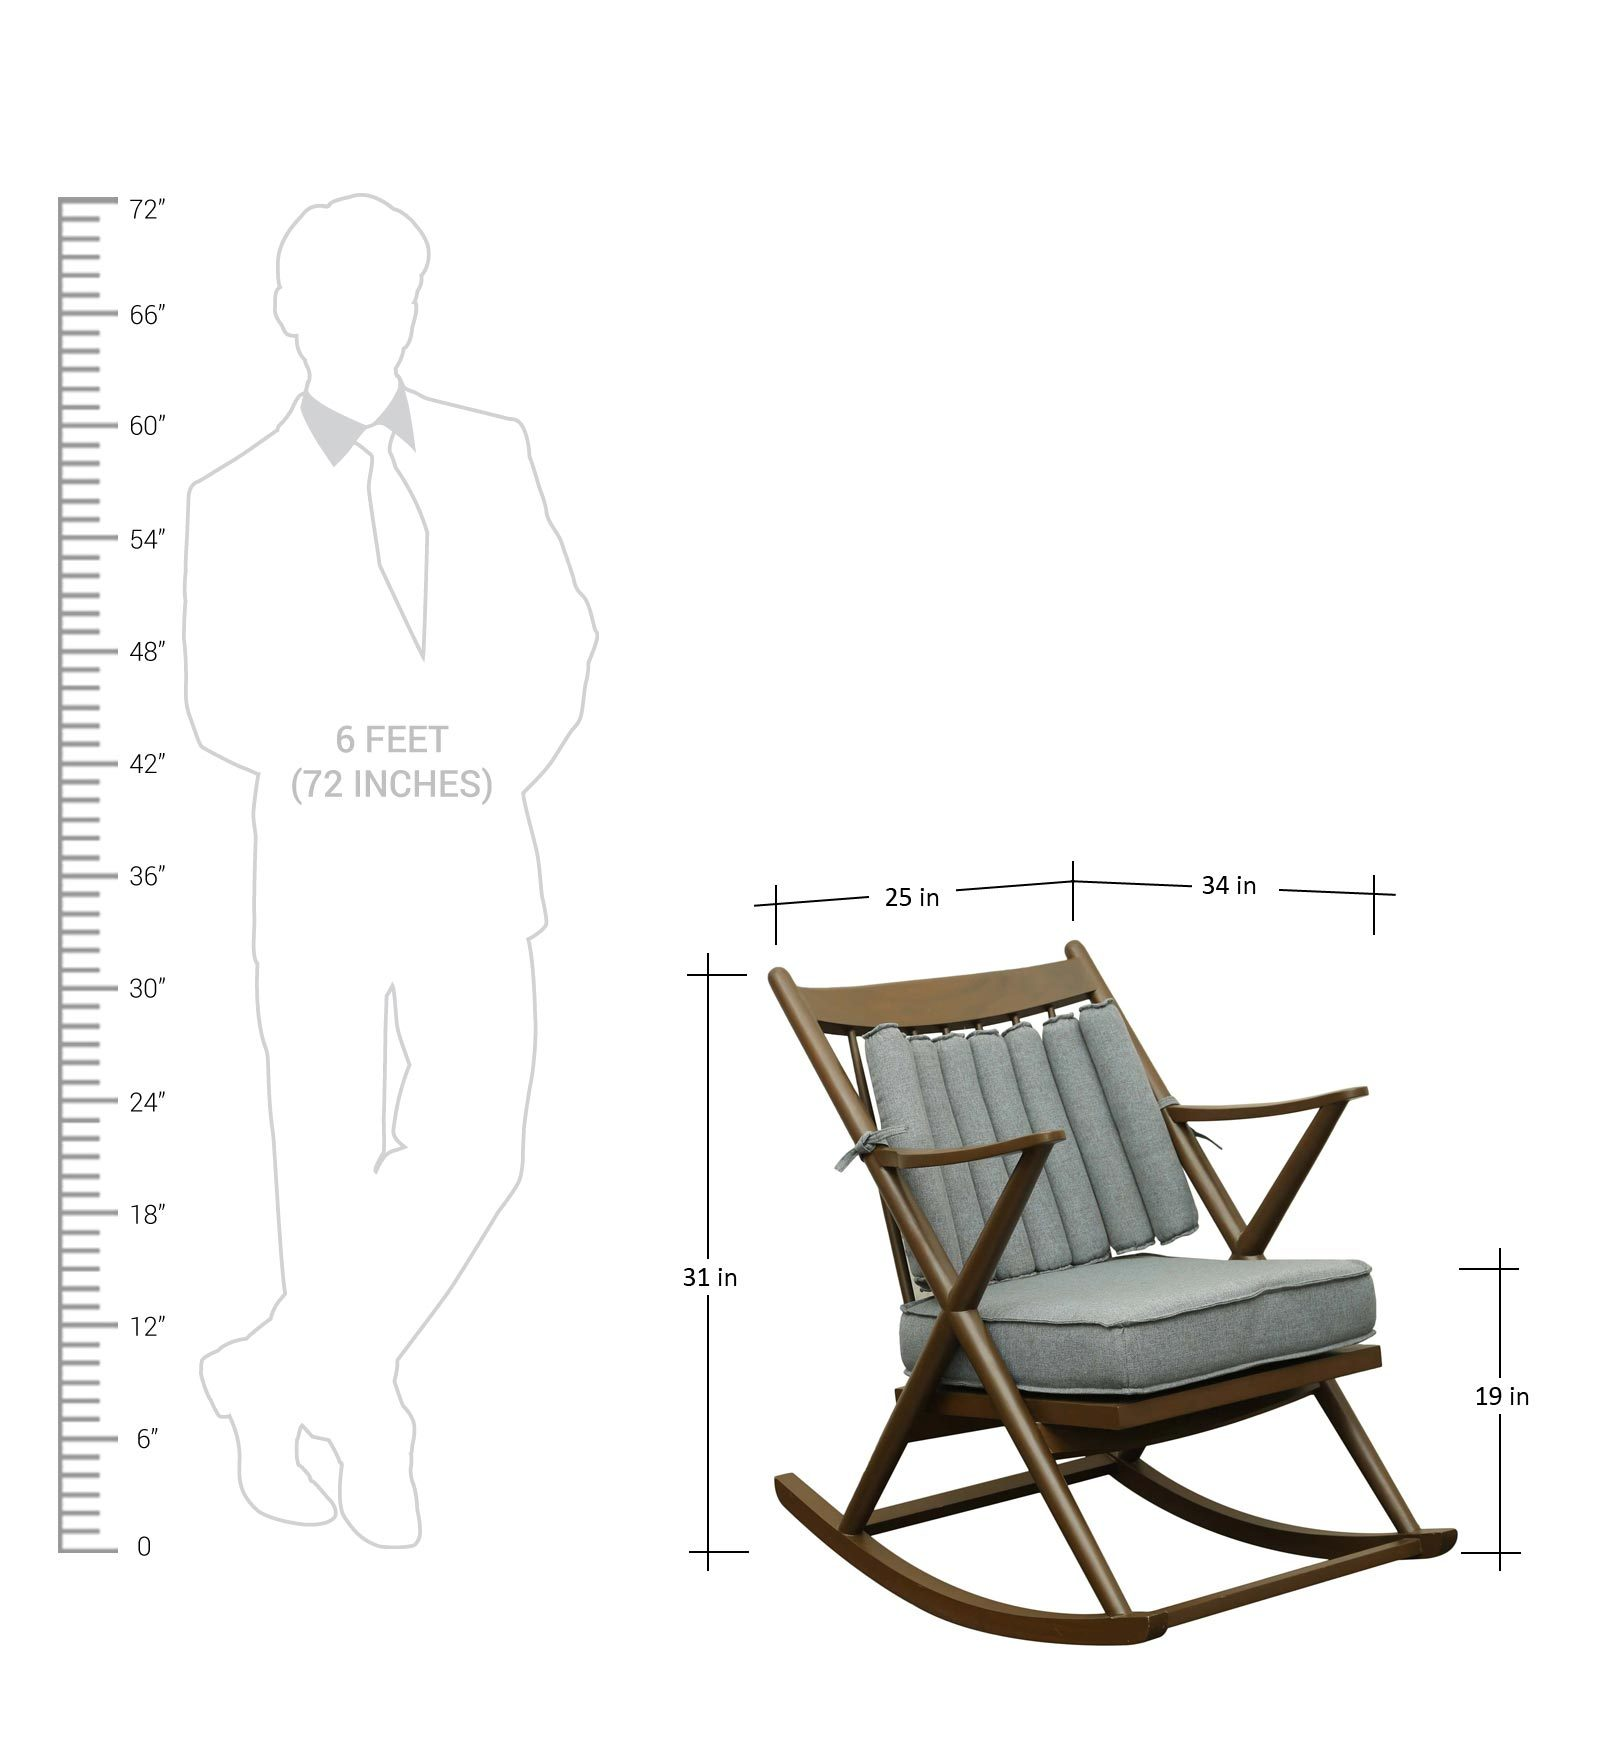Standard Rocking Chair in Grey & Brown Colour Combo by INDOORS: (733, 929, 1470, 1673)
